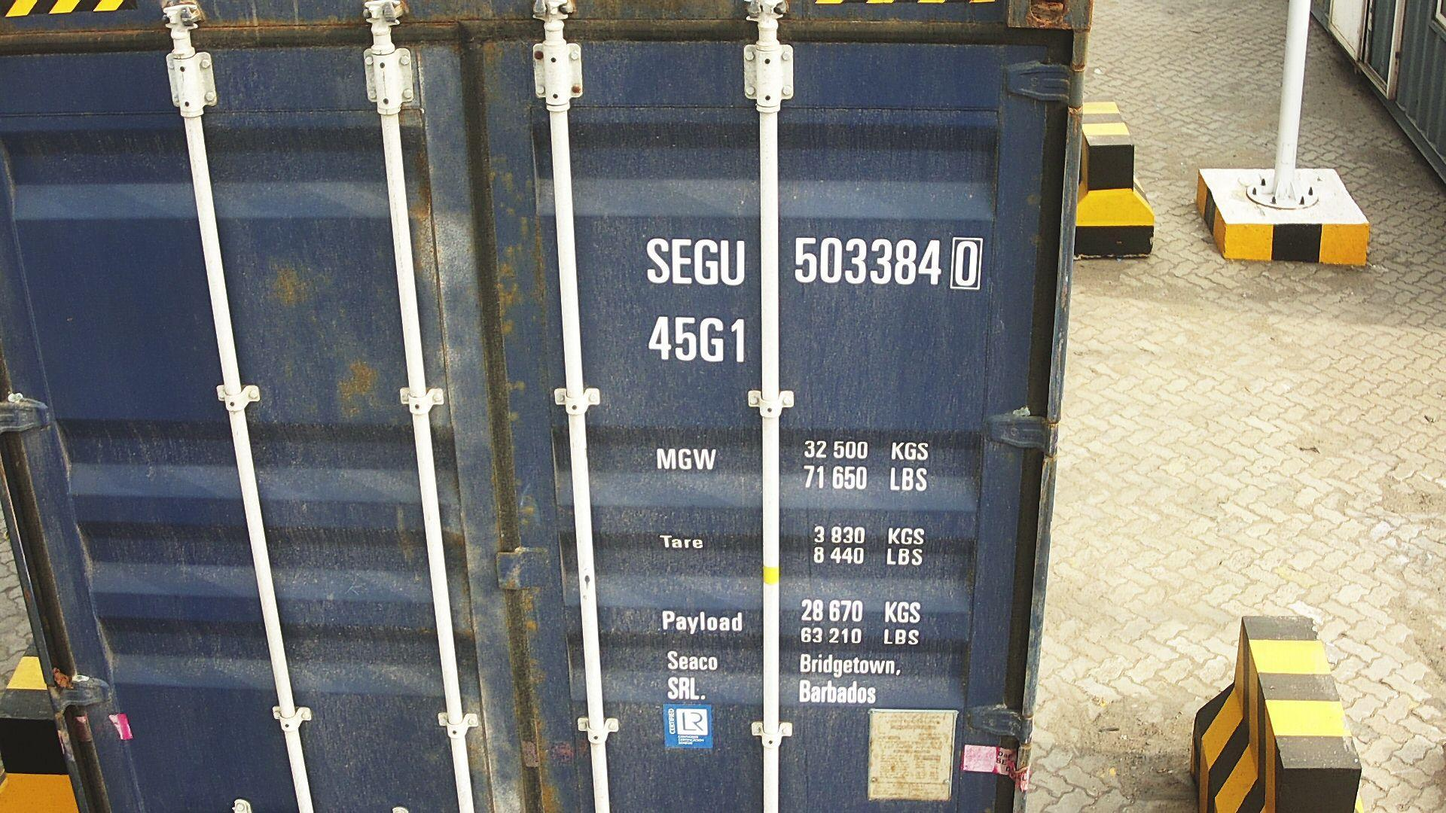container-numbers: (637, 233, 987, 295), (646, 313, 754, 366)
